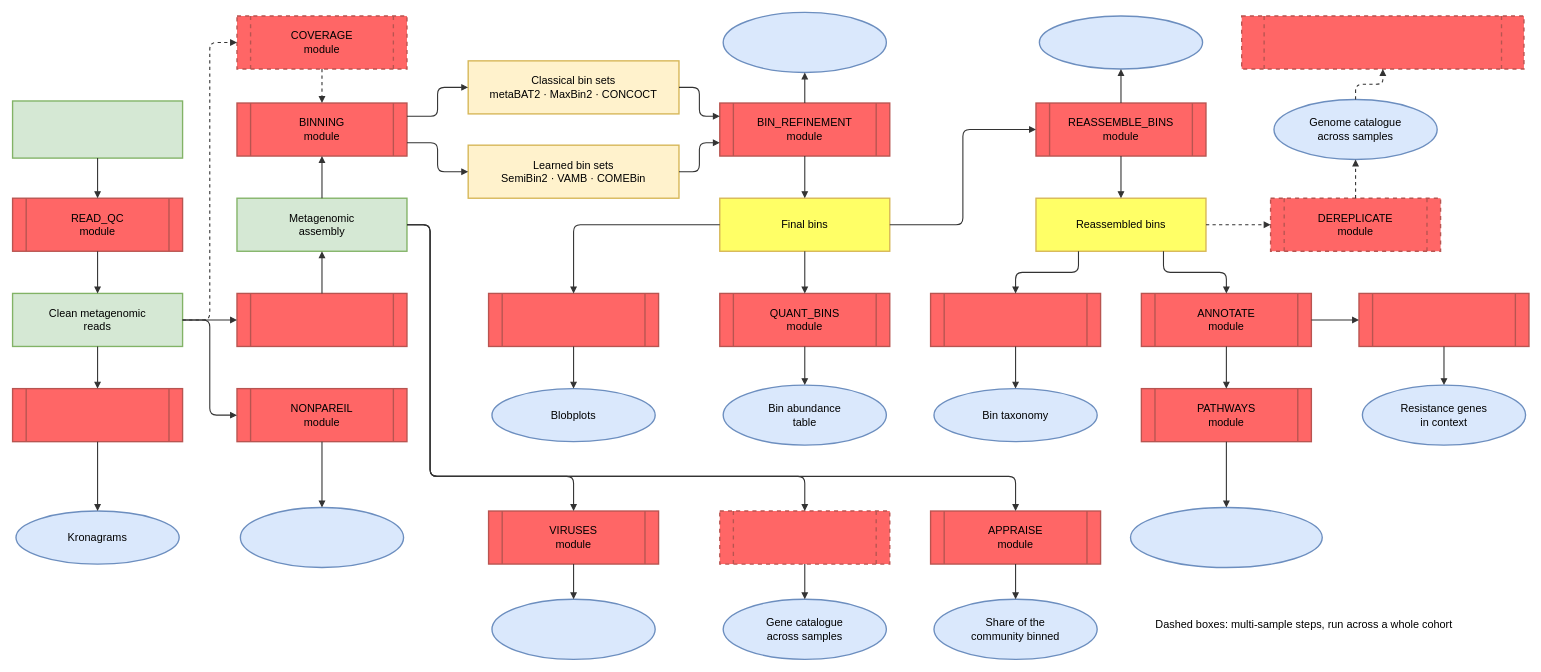
Some shapes in this 1541 by 672 pixel diagram are drawn without their labels. The centre of each missing label's shape, as x and y in pixels:
"AMR module" belongs at point (1443, 319).
"ASSEMBLY module" belongs at point (321, 319).
"Bin quality and chimera report" belongs at point (804, 42).
"BLOBOLOGY module" belongs at point (573, 319).
"CATALOGUE module" belongs at point (804, 537).
"CLASSIFY_BINS module" belongs at point (1015, 319).
"Diversity coverage" belongs at point (321, 537).
"KRAKEN2 module" belongs at point (97, 415).
"Pathway completeness and abundance" belongs at point (1226, 537).
"QC plots" belongs at point (1120, 42).
"Raw reads from metagenomic samples (short or long)" belongs at point (97, 129).
"STRAINS · PANGENOME · PHYLOGENY modules" belongs at point (1382, 42).
"Viral genomes, vOTUs and hosts" belongs at point (573, 629).
